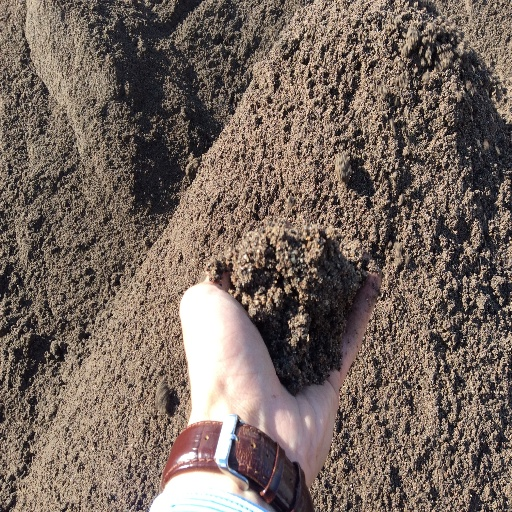hand: (162, 290, 369, 504)
